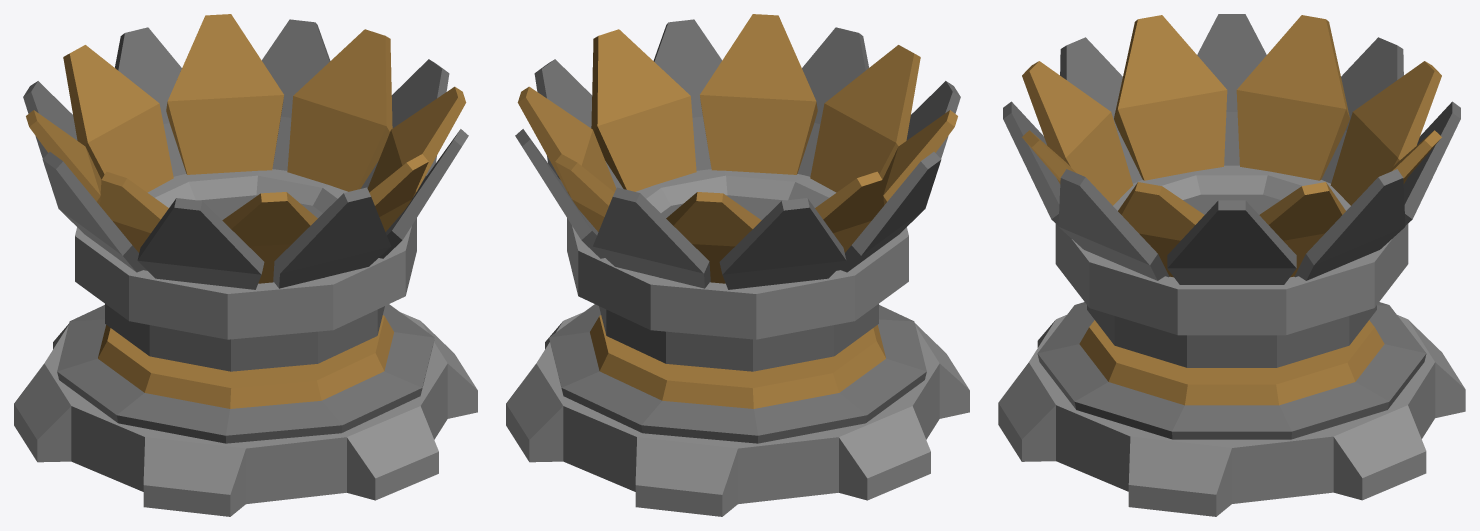
Rendered from teleporter-1.glb.
3 views of the same model, side by side, from view 1: azimuth 30°, elevation 25°; view 2: azimuth 150°, elevation 25°; view 3: azimuth 270°, elevation 25° (orthographic).
Parts seen in each view (by area): view 1: Props_Teleporter_1; view 2: Props_Teleporter_1; view 3: Props_Teleporter_1.
Part boxes in pixels (x1,y1,x2,y2): Props_Teleporter_1: (14,14,477,516); Props_Teleporter_1: (506,14,969,516); Props_Teleporter_1: (998,14,1465,516).
Bounding box in the file's own units: 1.21 × 0.9045 × 1.21.
